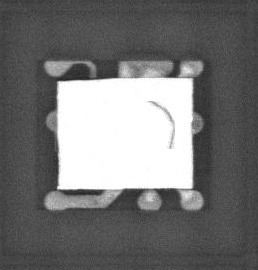DIE_INK: (139, 106, 166, 155)
